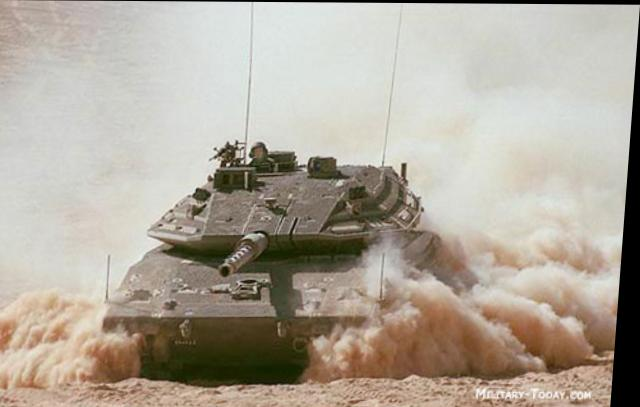tank: (94, 114, 467, 390)
